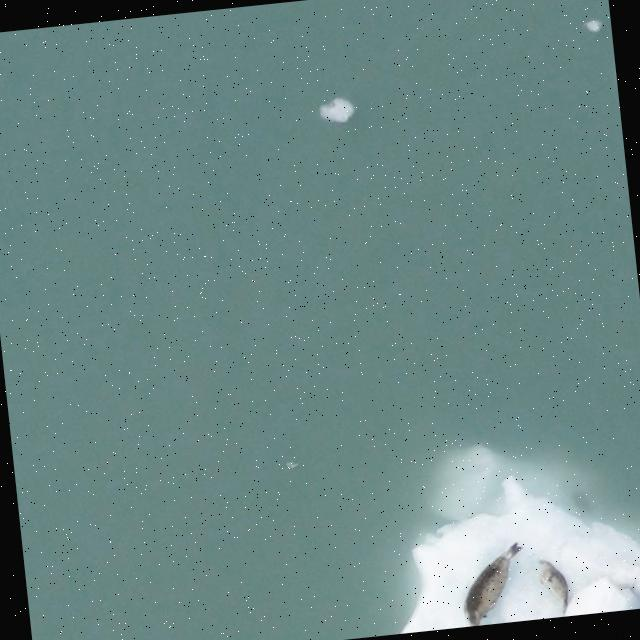seal: (453, 534, 523, 630), (529, 553, 578, 619)
